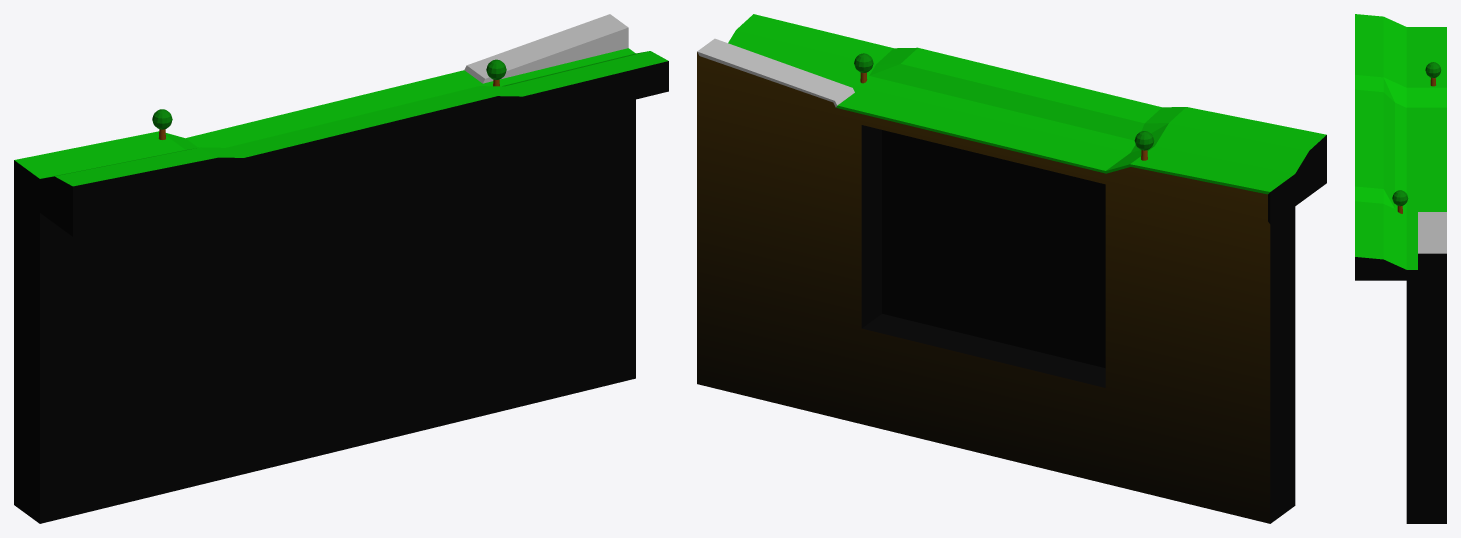
Rendered from EarthSurface.fbx.
3 views of the same model, side by side, from view 1: azimuth 30°, elevation 25°; view 2: azimuth 150°, elevation 25°; view 3: azimuth 270°, elevation 25° (orthographic). The views are drawn at different scales.
Visible parts, largest first — view 1: EarthSurface; view 2: EarthSurface; view 3: EarthSurface, Kugel, Kugel_2.
Boxes of the visible parts, x1,y1,x2,y2 form: EarthSurface: [14, 14, 668, 523]; EarthSurface: [697, 14, 1326, 523]; EarthSurface: [1355, 14, 1446, 523]; Kugel: [1392, 190, 1408, 206]; Kugel_2: [1425, 62, 1441, 77].
Bounding box in the file's own units: 9400 × 5535 × 1605.
1 material, 1 textured.
